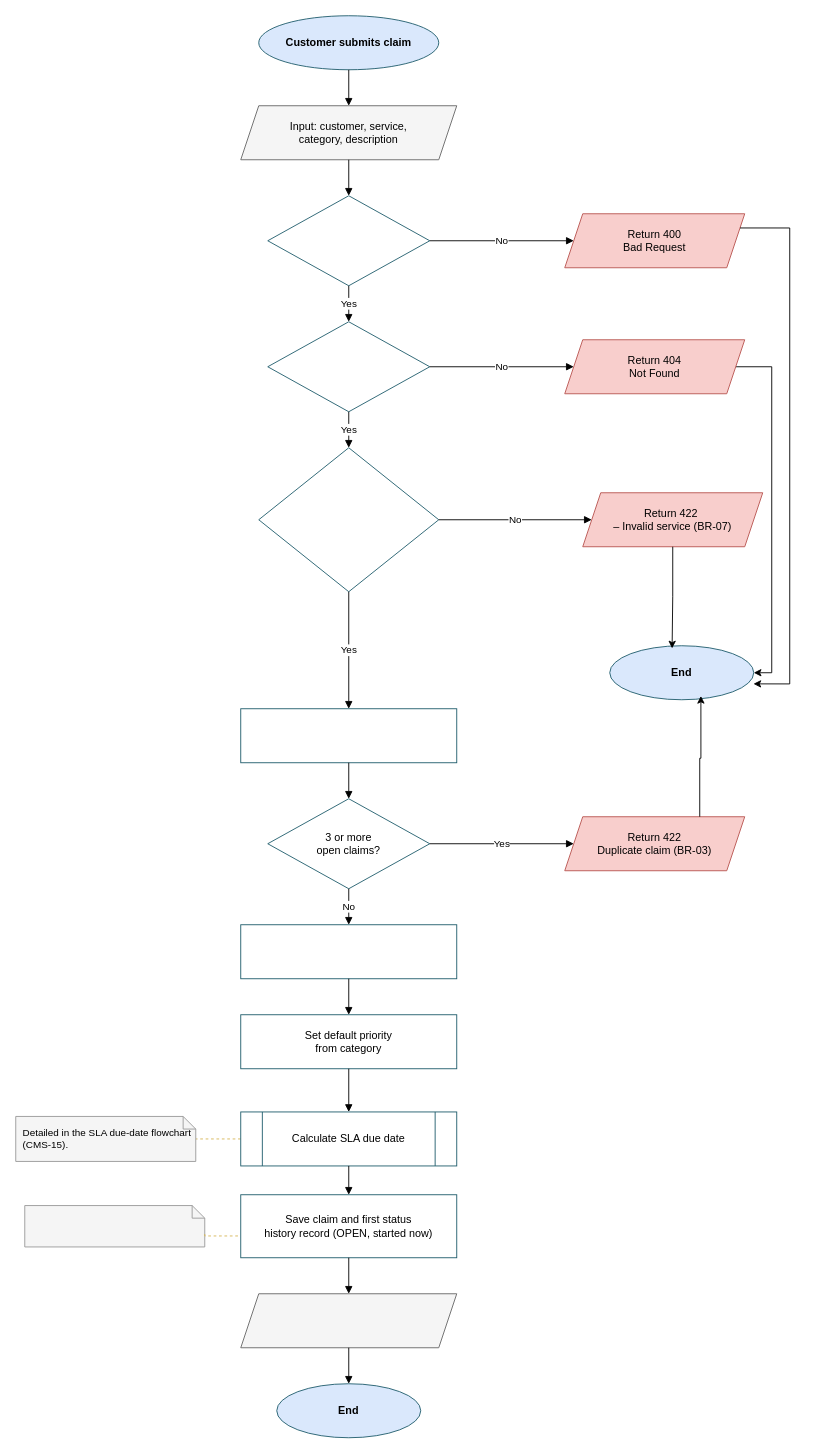
Some shapes in this 813 by 1454 pixel diagram are drawn without their labels. The shapes that lost their labels are listed below. From the top down, each one's centre as x and y in pixels, then its label:
point (348, 240): Required fields valid?
point (348, 366): Customer exists?
point (348, 519): Service belongs to customer and is not cancelled?
point (348, 735): Count open claims for same customer, service and category
point (348, 951): Generate claim number (CLM-YYYY-NNNNNN)
point (114, 1226): Single database transaction.
point (348, 1320): Return 201 Created with claim number
